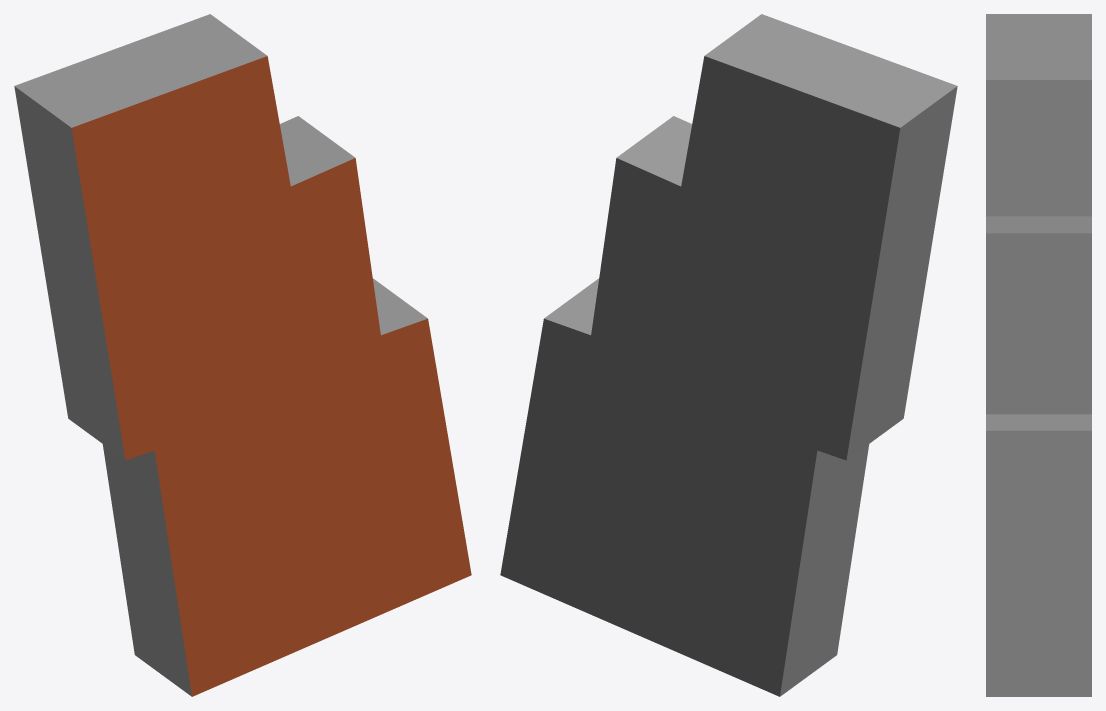
The model's file is construction_4522_assumed_A_Casa_h6m.obj.
The picture shows the model from 3 angles, left to right: view 1: azimuth 30°, elevation 25°; view 2: azimuth 150°, elevation 25°; view 3: azimuth 270°, elevation 25°; orthographic projection. The views are drawn at different scales.
Visible parts, largest first — view 1: construction_4522_assumed_A_Casa; view 2: construction_4522_assumed_A_Casa; view 3: construction_4522_assumed_A_Casa.
Part boxes in pixels (box(x1,y1,x2,y2)): construction_4522_assumed_A_Casa: box(14, 14, 471, 696); construction_4522_assumed_A_Casa: box(500, 14, 957, 696); construction_4522_assumed_A_Casa: box(986, 14, 1091, 696).
Size of the model in its own units: 24.19 by 35.97 by 6.
